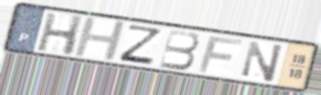B: (158, 28, 201, 71)
F: (196, 35, 246, 74)
H: (71, 17, 129, 62), (35, 11, 86, 58)
N: (240, 39, 286, 84)
Z: (116, 23, 164, 67)
